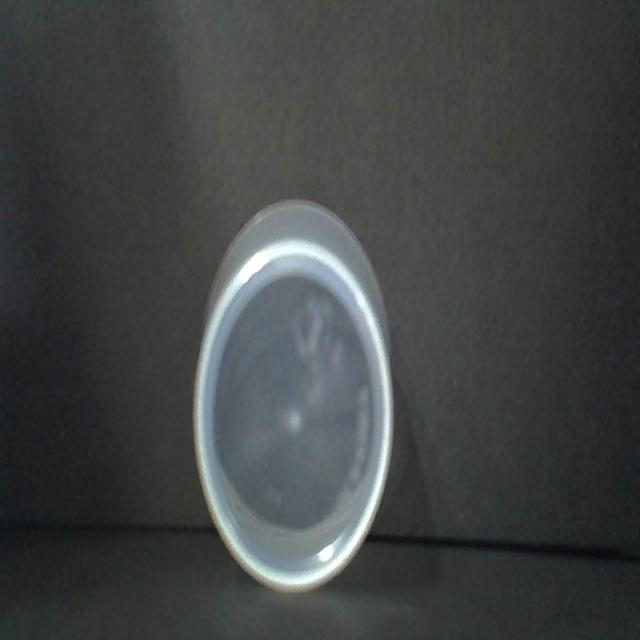cup: (184, 191, 410, 603)
